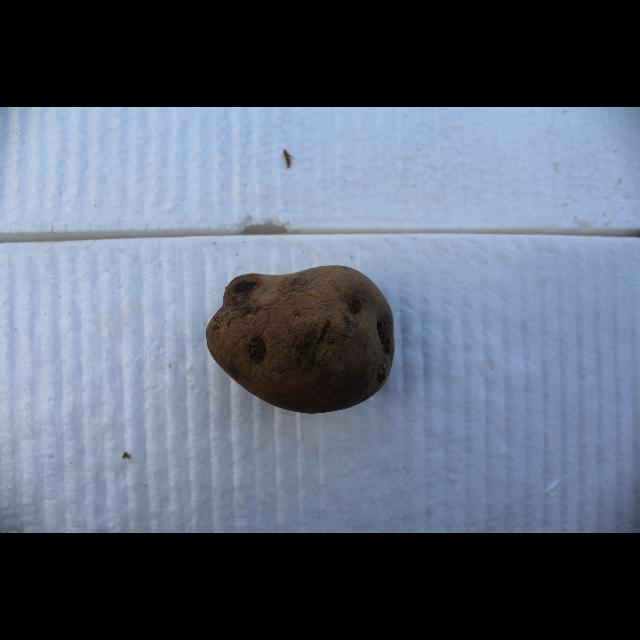Diseased-fungal potato: (204, 260, 398, 418)
